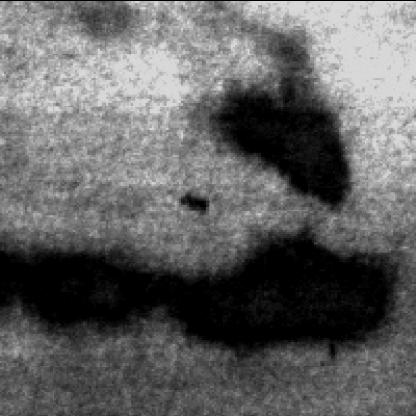patches: (147, 233, 392, 349), (210, 52, 348, 204), (0, 235, 164, 328)
